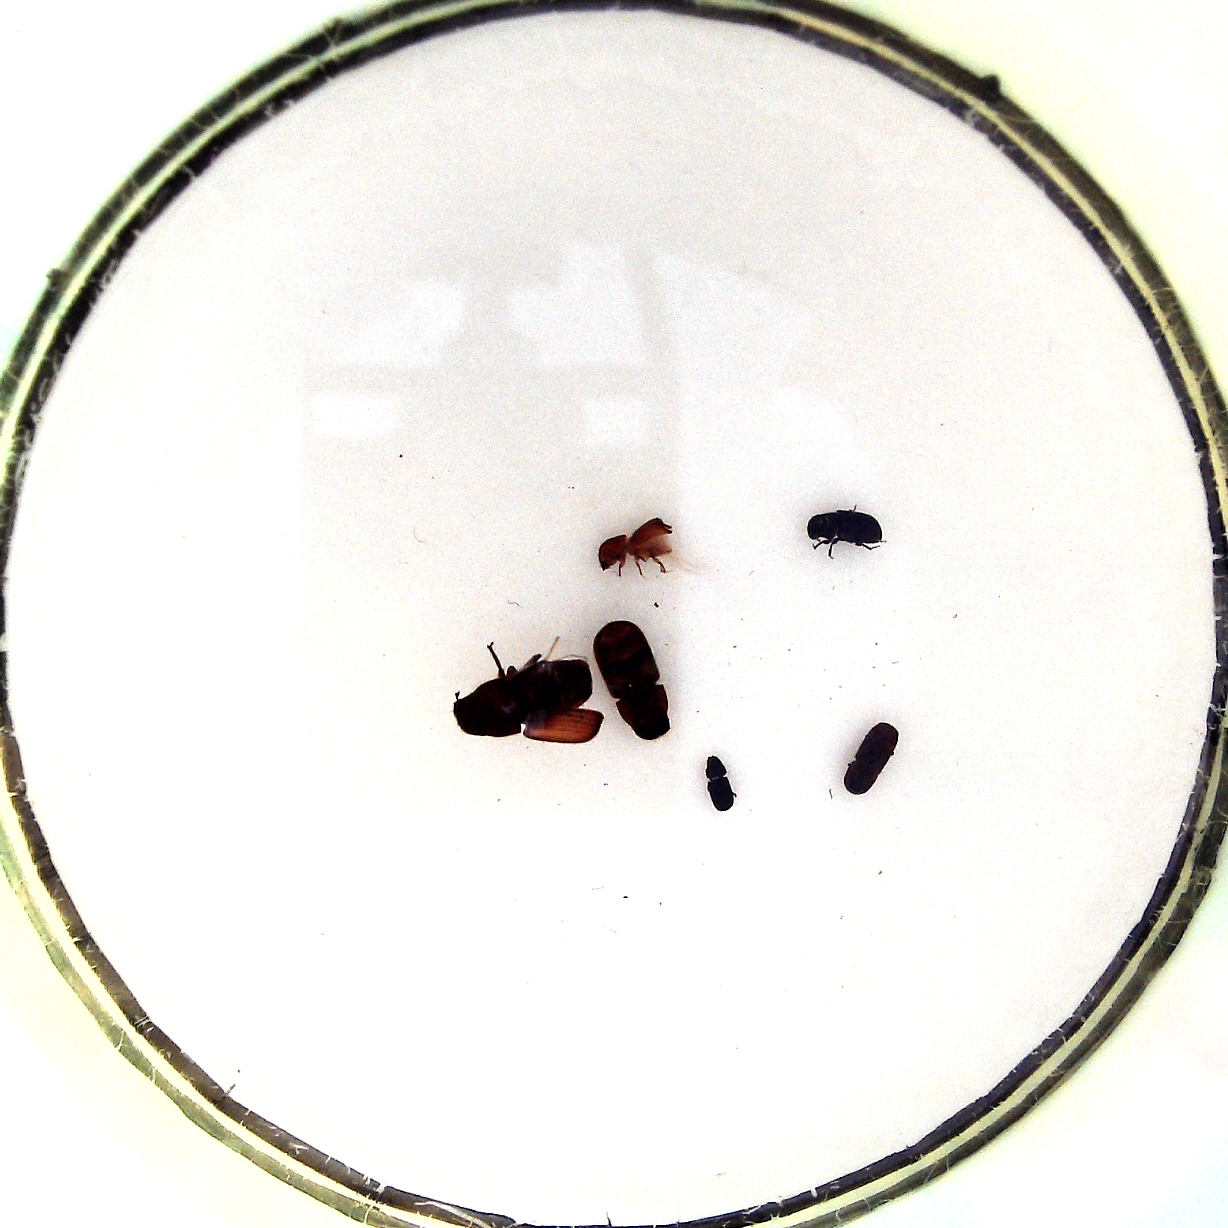Leconte: (451, 644, 601, 746), (597, 618, 672, 741)
Linnaeus: (839, 719, 902, 798)
acuminatus: (594, 518, 684, 580)
armandi: (803, 506, 885, 552)
coleoptera: (699, 752, 744, 813)
